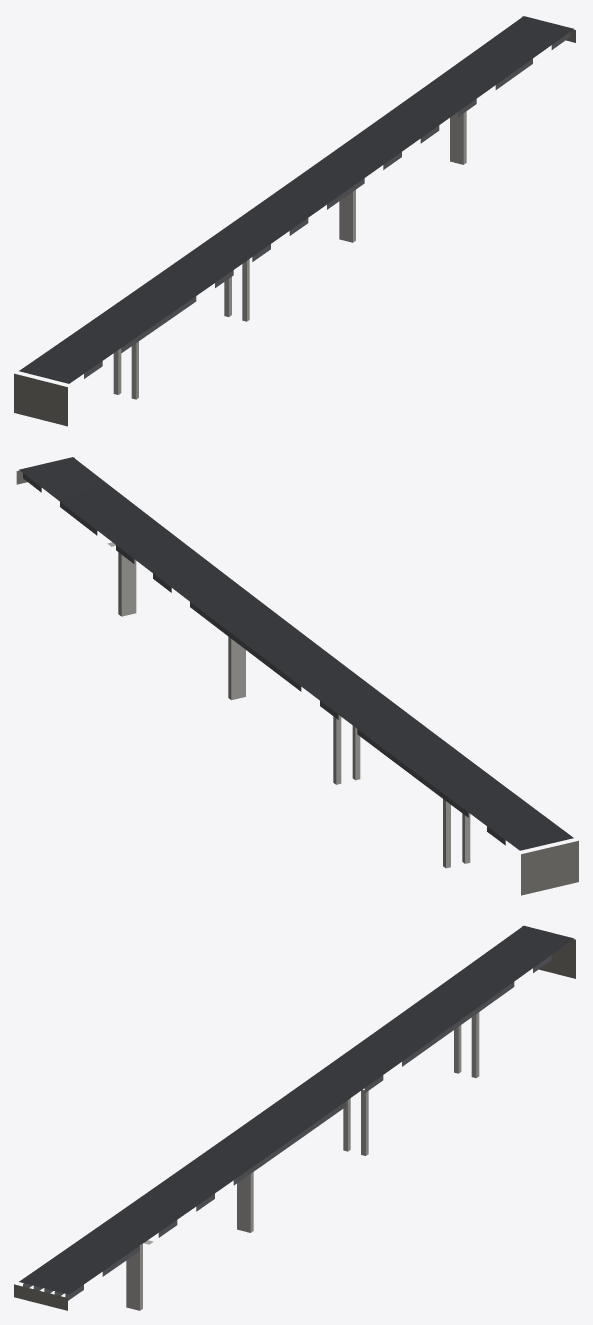
The model's file is br_r20_beverly_lod2.gltf.
3 renders of one model, top to bottom at view 1: azimuth 90°, elevation 25°; view 2: azimuth 150°, elevation 25°; view 3: azimuth 270°, elevation 25°, orthographic. The views are drawn at different scales.
Visible parts, largest first — view 1: br_r20_beverly_lod2; view 2: br_r20_beverly_lod2; view 3: br_r20_beverly_lod2.
Boxes of the visible parts, <box> form: br_r20_beverly_lod2: <box>14,16,575,426</box>; br_r20_beverly_lod2: <box>16,457,578,895</box>; br_r20_beverly_lod2: <box>14,925,575,1310</box>.
Size of the model in its own units: 288 by 28.89 by 184.
